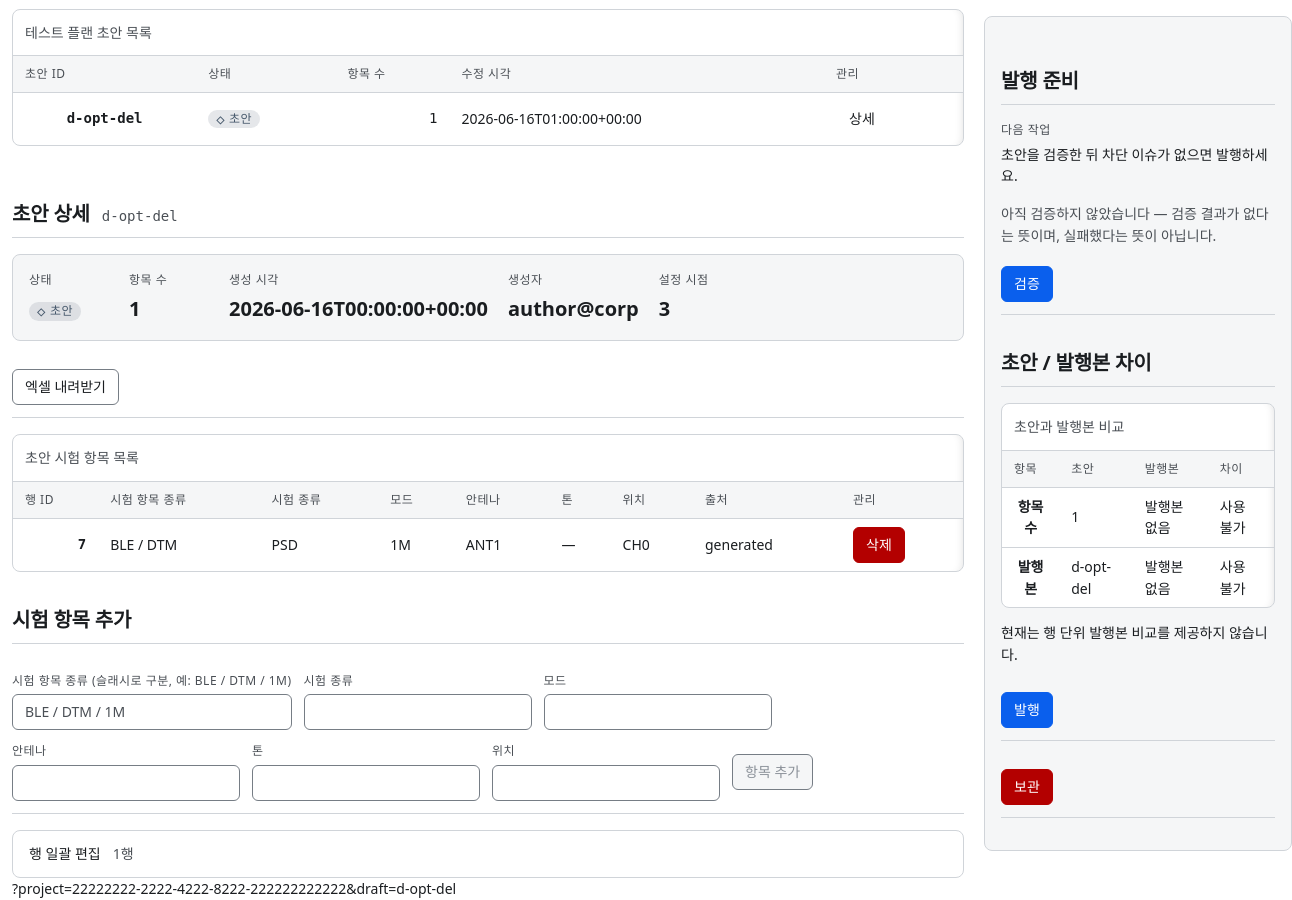
TestPlansRoute › removes the row immediately while the delete request is still pending
(page scrolled)
Click the button with test id "test-plans-remove-row" at (879, 545), box [853,527,905,563]
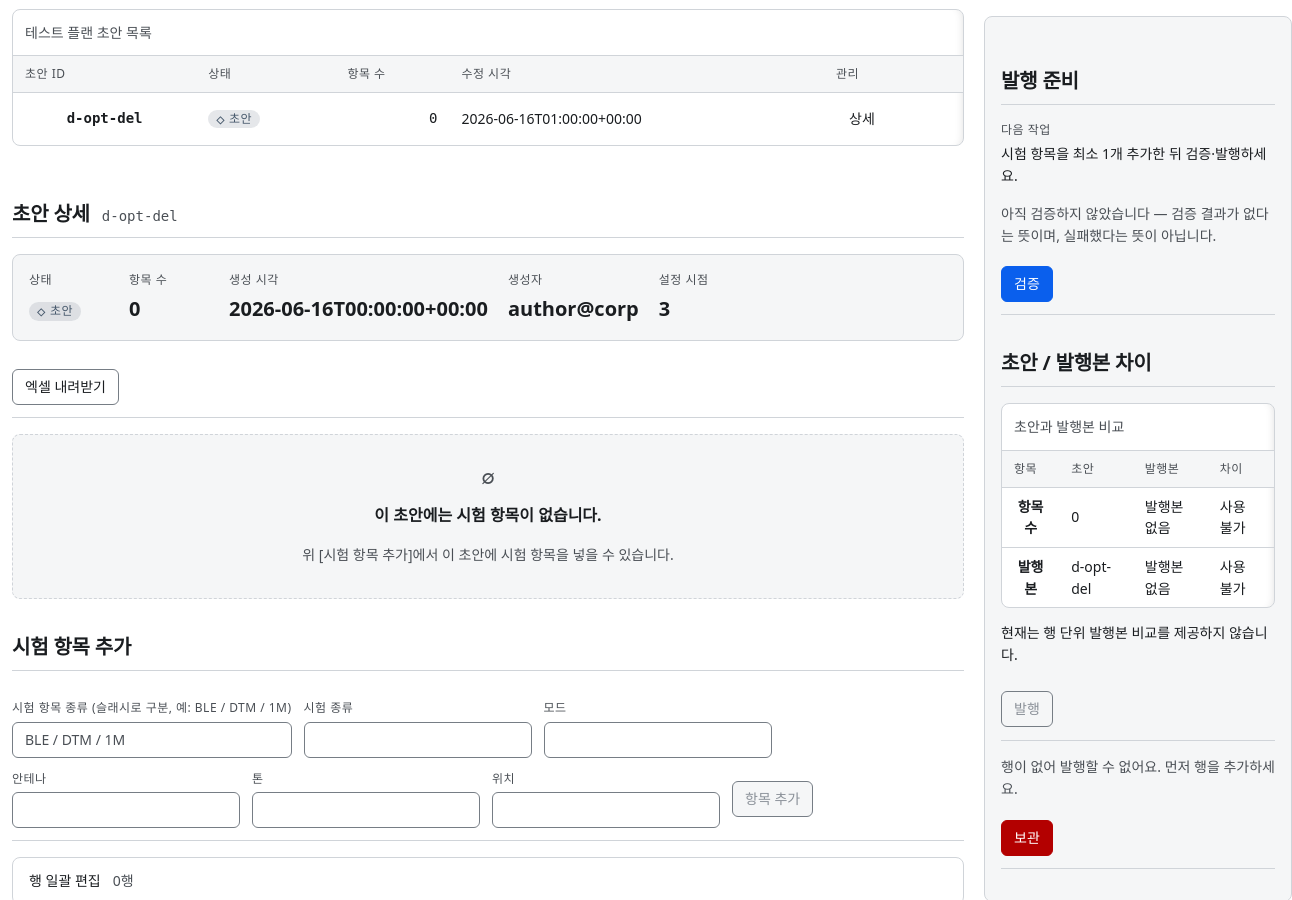
Now the message "이 초안에는 시험 항목이 없습니다. 위 [시험 항목 추가]에서 이 초안에 시험 항목을 넣을 수 있습니다." is shown, box [12,434,964,599]
Now the text with test id "test-plans-detail-row-count" reads "0", box [129,295,140,322]
Now the cell "0" next to "2026-06-16T01:00:00+00:00" is shown, box [429,110,437,126]
